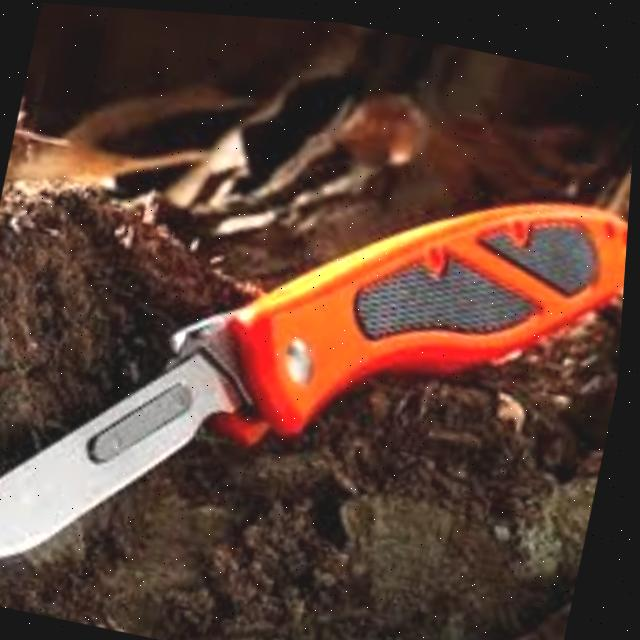knife: (0, 81, 636, 640)
